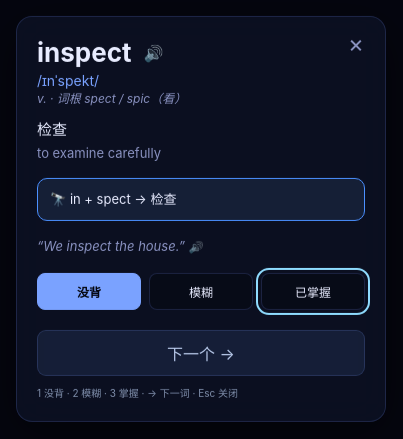
词卡导航与学习闭环 › 掌握后手动选其他词，旧计时器不抢走新选择
Click the button "已掌握".
click(313, 291)  # box [261,273,365,310]
Wait 600 ms
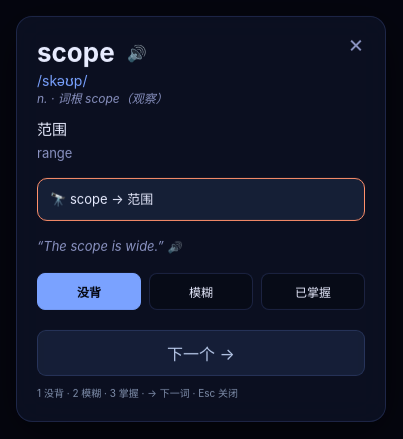
expect the heading "scope 🔊" is shown: met, box [37,37,151,68]
